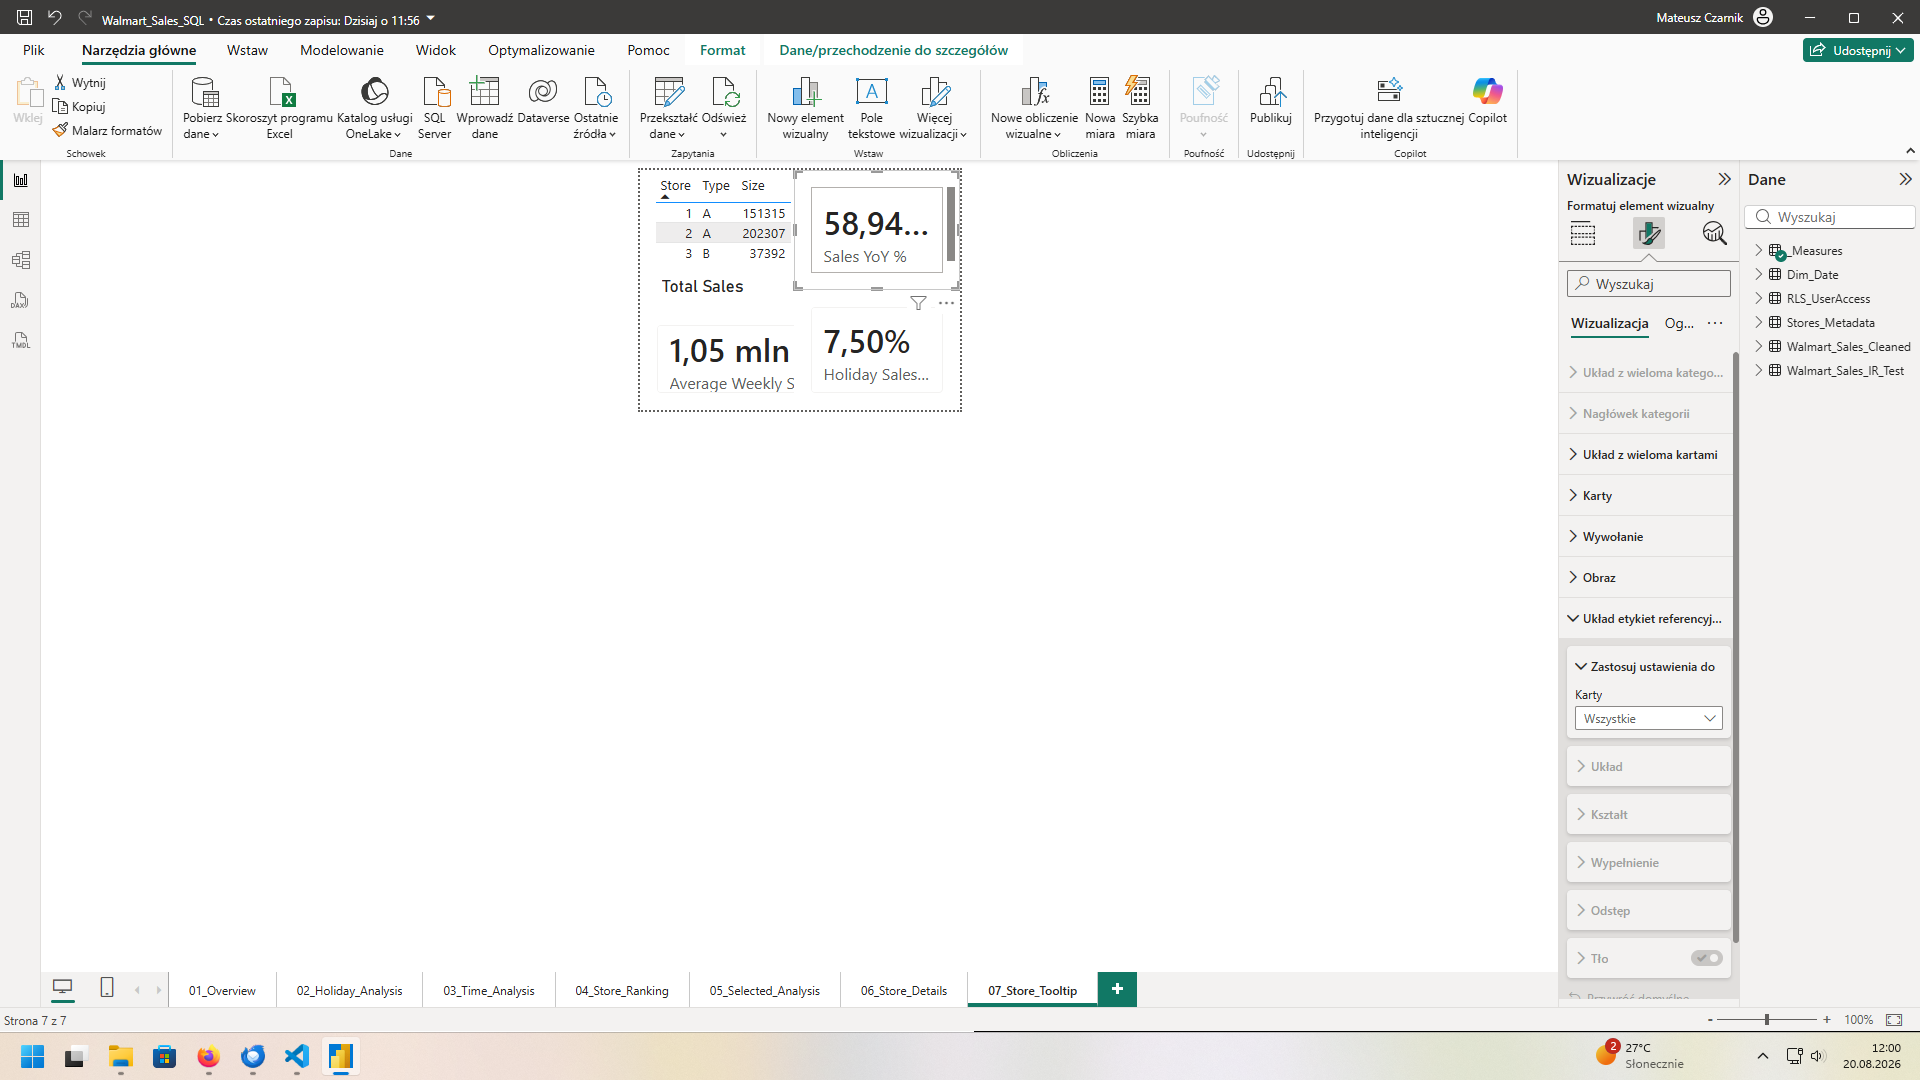

This screenshot's page, from the dashboard's own definition file:
{"tool":"powerbi","page":{"name":"07_Store_Tooltip","canvas":[320,240],"ordinal":6},"visuals":[{"type":"tableEx","fields":{"Values":["Stores_Metadata.Store","Stores_Metadata.Type","Stores_Metadata.Size"]},"box":[10,0,165,96],"z":0},{"type":"treemap","fields":{"Values":["_Measures.Total Sales"]},"box":[17,106,121,28],"z":1000},{"type":"cardVisual","fields":{"Data":["_Measures.Average Weekly Sales"]},"box":[0,138,211,102],"z":2000},{"type":"cardVisual","fields":{"Data":["_Measures.Sales YoY %"]},"box":[154,0,166,120],"z":3000},{"type":"cardVisual","fields":{"Data":["_Measures.Holiday Sales Share %"]},"box":[154,120,166,120],"z":4000}]}

Visuals, with their boxes on the page's 320x240 design canvas (x1, y1, x2, y2). These are canvas units, not pixel positions in the 1920x1080 screenshot, which may show the page scaled, cropped or inside an application window:
tableEx - Stores_Metadata.Store x Stores_Metadata.Type: 10 0 175 96
treemap - _Measures.Total Sales: 17 106 138 134
cardVisual - _Measures.Average Weekly Sales: 0 138 211 240
cardVisual - _Measures.Sales YoY %: 154 0 320 120
cardVisual - _Measures.Holiday Sales Share %: 154 120 320 240
